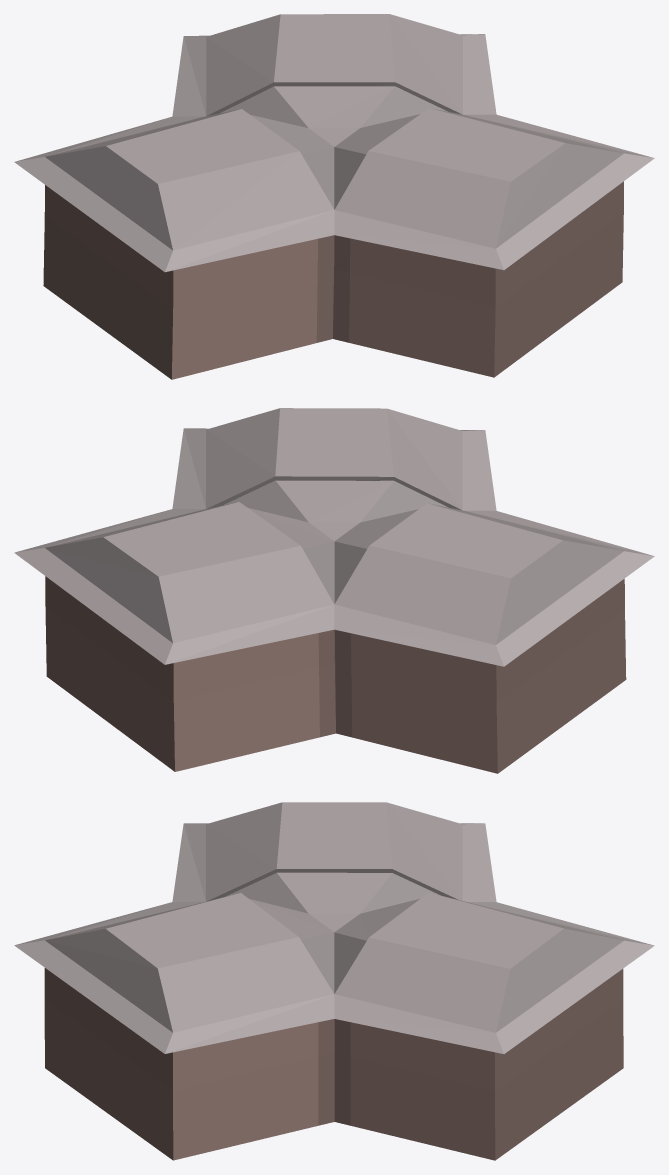
Rendered from Recruitment Building.fbx.
The picture shows the model from 3 angles, top to bottom: view 1: azimuth 30°, elevation 25°; view 2: azimuth 150°, elevation 25°; view 3: azimuth 270°, elevation 25°; orthographic projection.
Visible parts, largest first — view 1: pCylinder1; view 2: pCylinder1; view 3: pCylinder1.
Part boxes in pixels (left/top/right/bottom): pCylinder1: left=14, top=14, right=654, bottom=379; pCylinder1: left=14, top=408, right=654, bottom=773; pCylinder1: left=14, top=802, right=654, bottom=1160.
Size of the model in its own units: 25.12 by 8.21 by 29.01.
